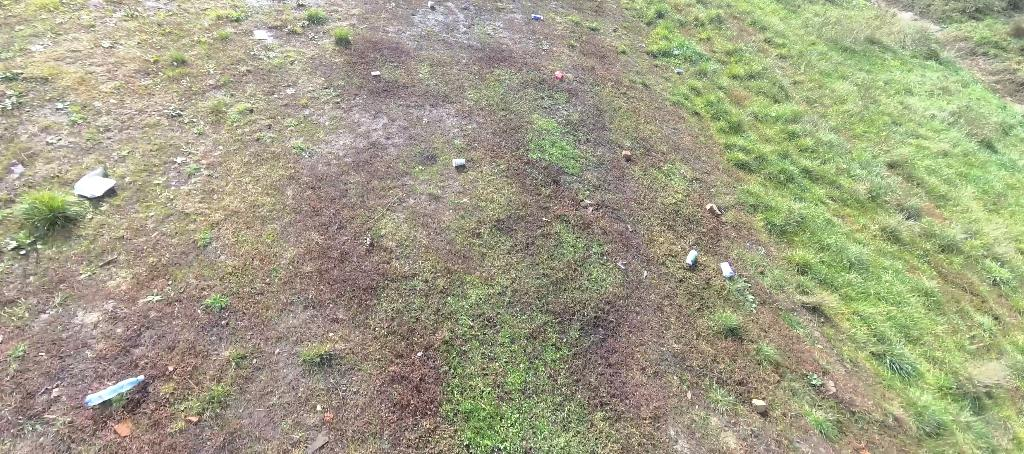garbage: (83, 371, 148, 414), (84, 375, 146, 408), (70, 164, 119, 201), (73, 167, 119, 199), (719, 259, 735, 283), (684, 248, 699, 270), (749, 400, 768, 415), (719, 261, 735, 278), (704, 202, 723, 216), (449, 157, 468, 169), (685, 249, 698, 266), (451, 157, 466, 168), (552, 70, 564, 80), (254, 31, 268, 39), (529, 13, 545, 20), (621, 150, 632, 160), (370, 70, 381, 76), (671, 50, 680, 56), (427, 1, 435, 7), (676, 69, 683, 73)
